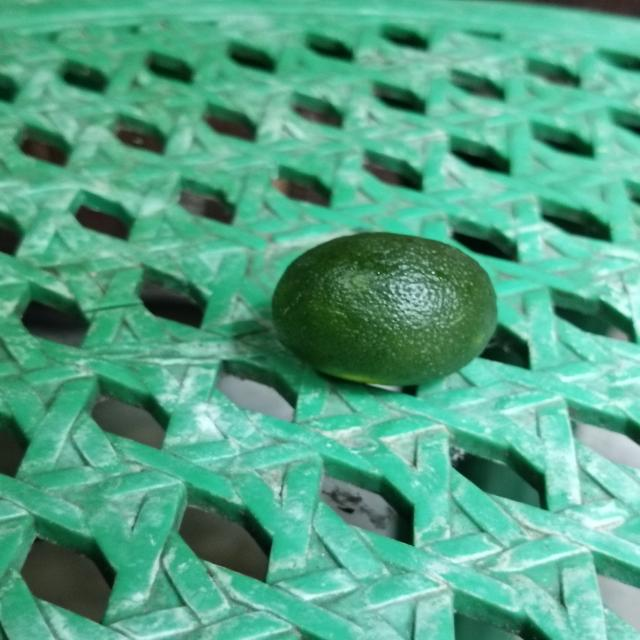heathy: (272, 232, 504, 390)
